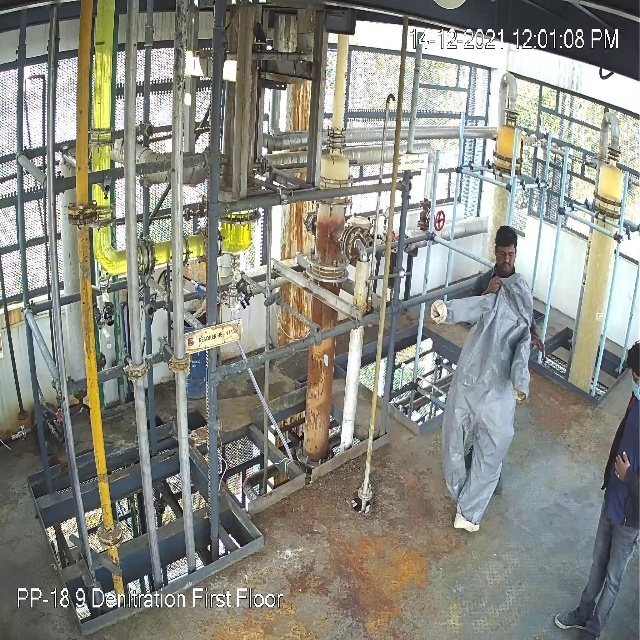Sin_gafas: (495, 248, 514, 258)
Sin_mascara: (495, 258, 514, 271)
